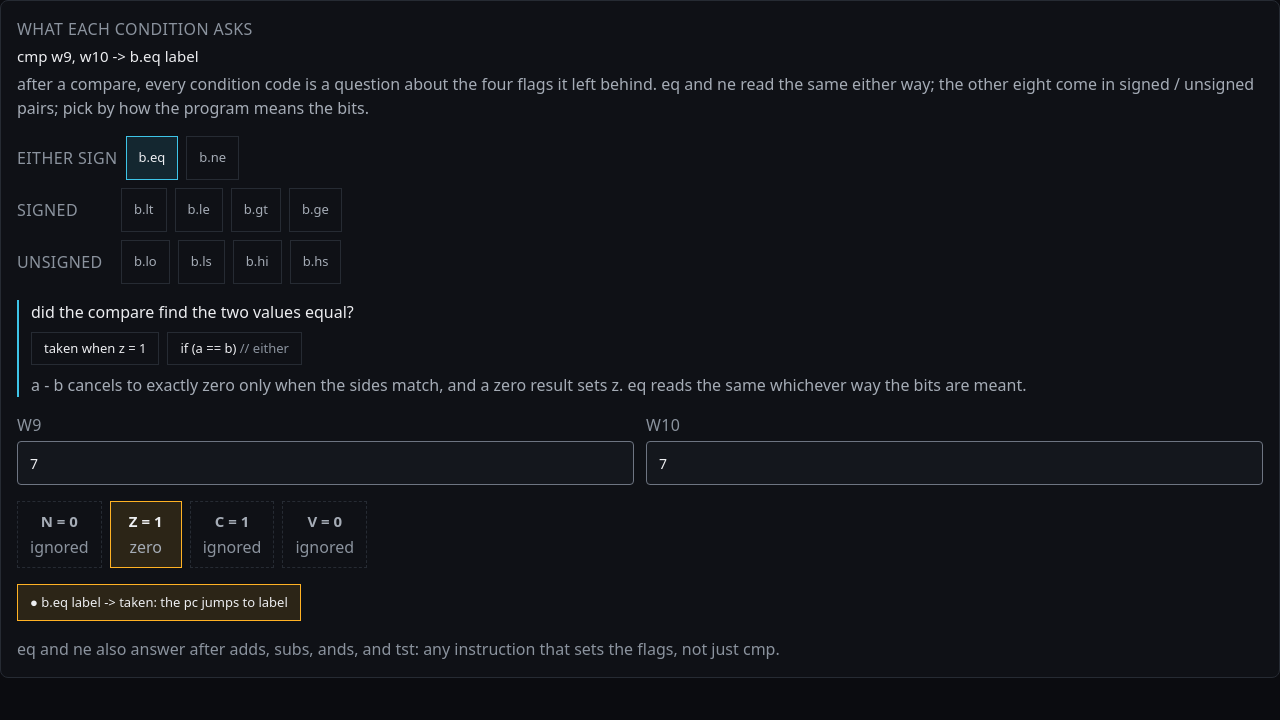
CondCodeExplorer › recomputes the verdict when an operand changes
Step 1. Click the button "b.lt" → (144, 210), box [121,188,166,232]
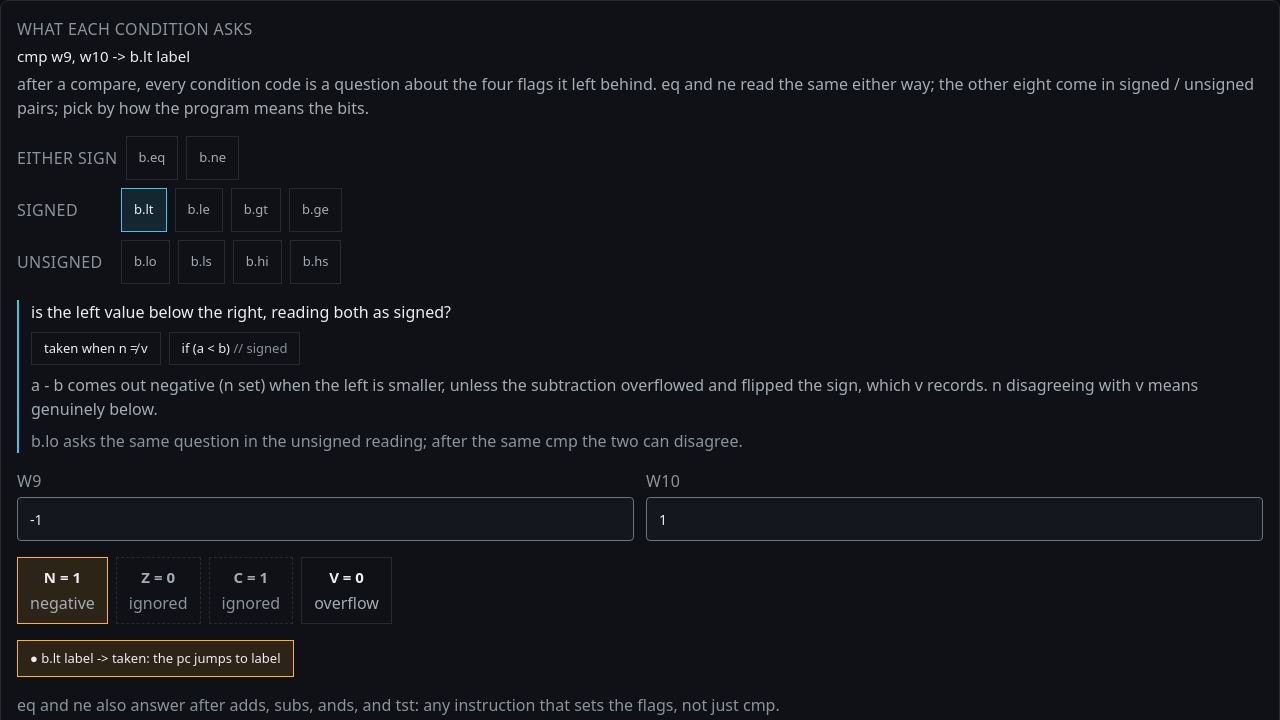
Step 2. Replace the text in the field labelled "w9" with "5" → (326, 519), box [17,497,634,541]
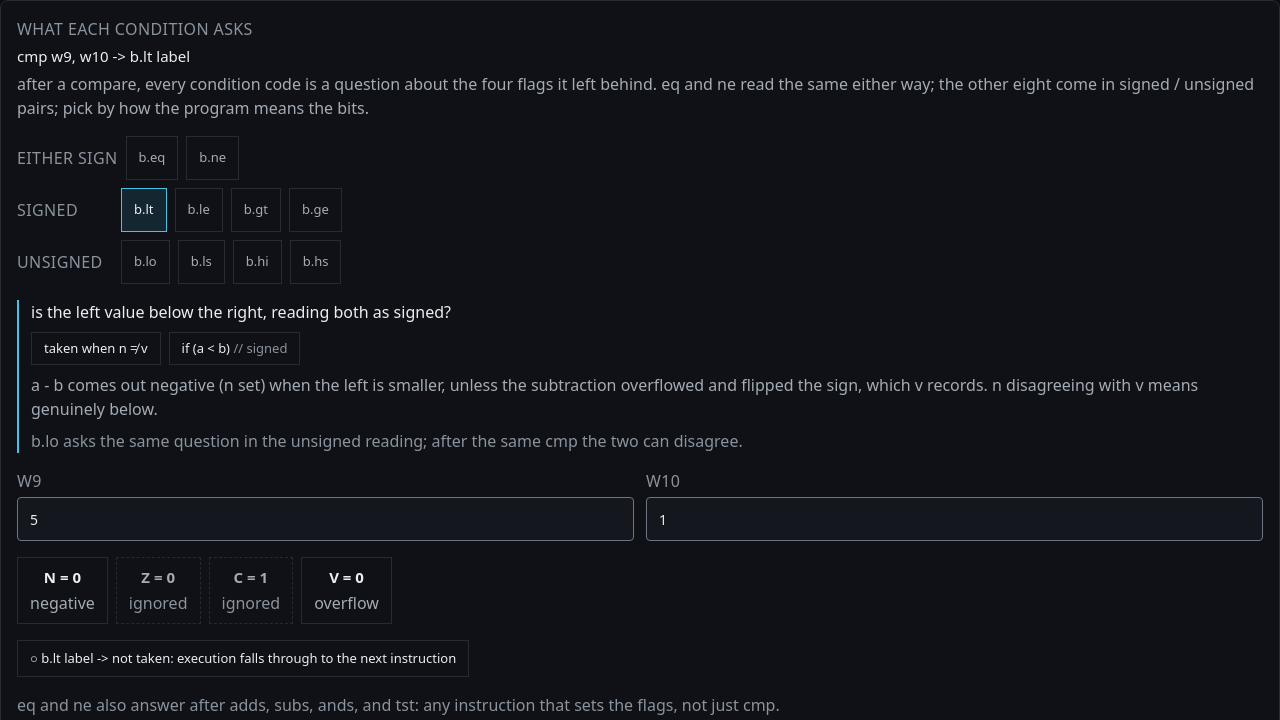
Result: the element named "b.lt: not taken" is shown at [17,640,469,677]
